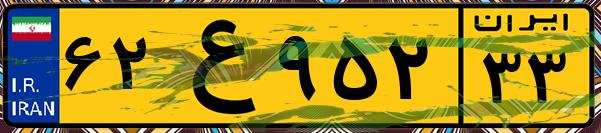2: (385, 28, 445, 110), (110, 28, 158, 98)
3: (475, 38, 525, 113), (525, 38, 570, 115)
5: (330, 28, 385, 110)
6: (57, 26, 110, 100)
9: (270, 28, 330, 110)
ع: (158, 12, 270, 120)
